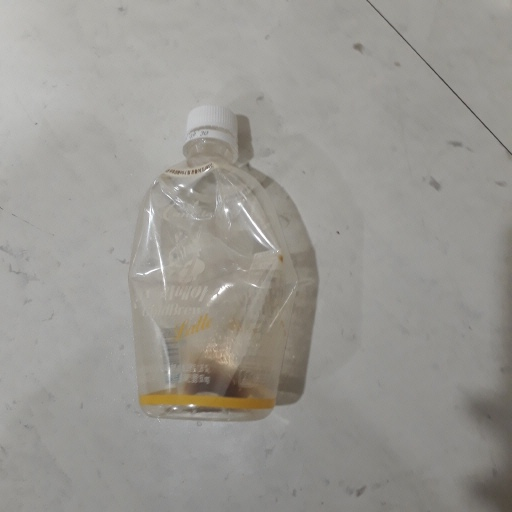Plastic_0: (125, 108, 301, 426)
